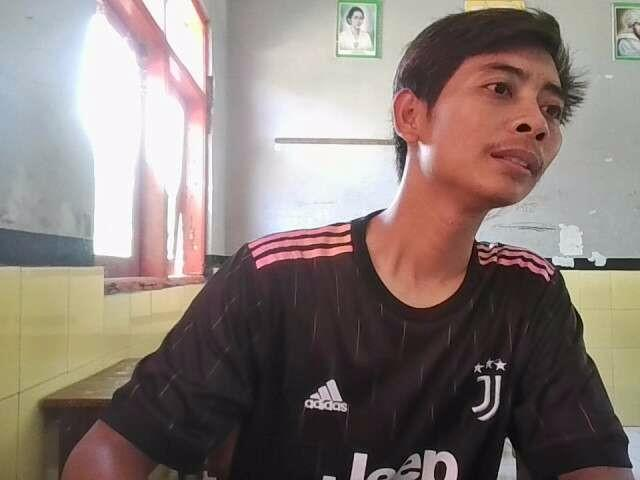cheating: (54, 0, 636, 480)
